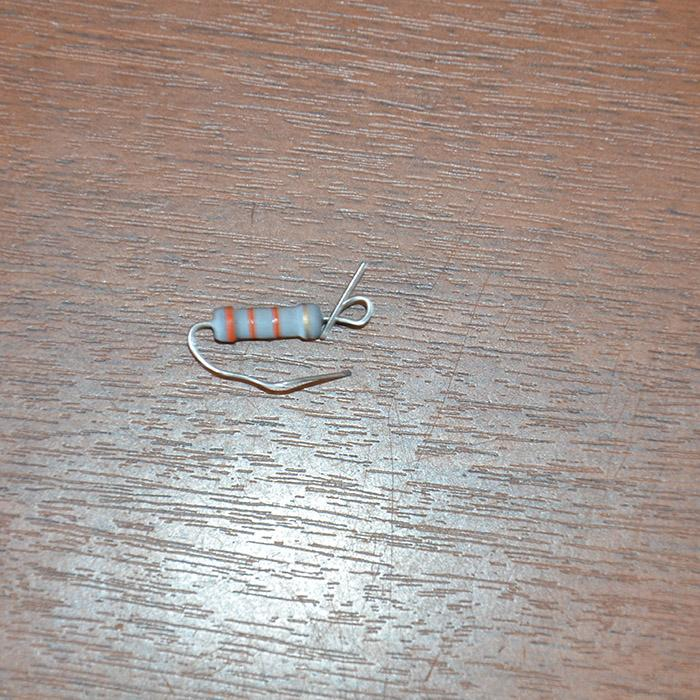resistor: (207, 302, 324, 343)
